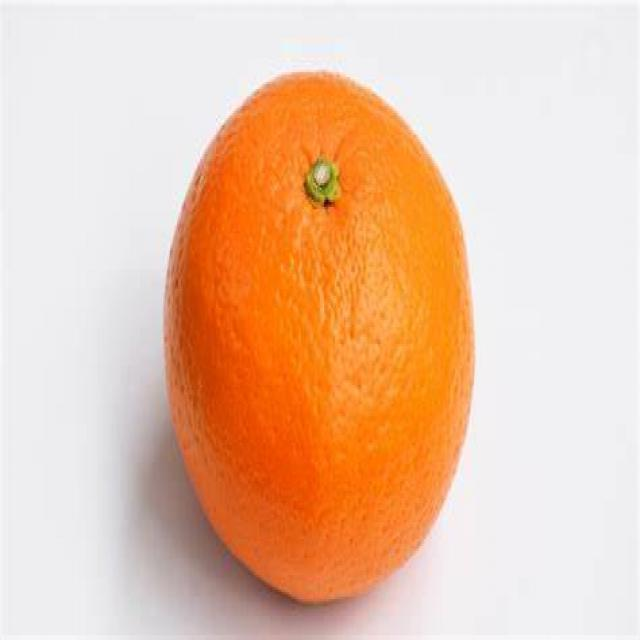Orange: (158, 67, 478, 607)
